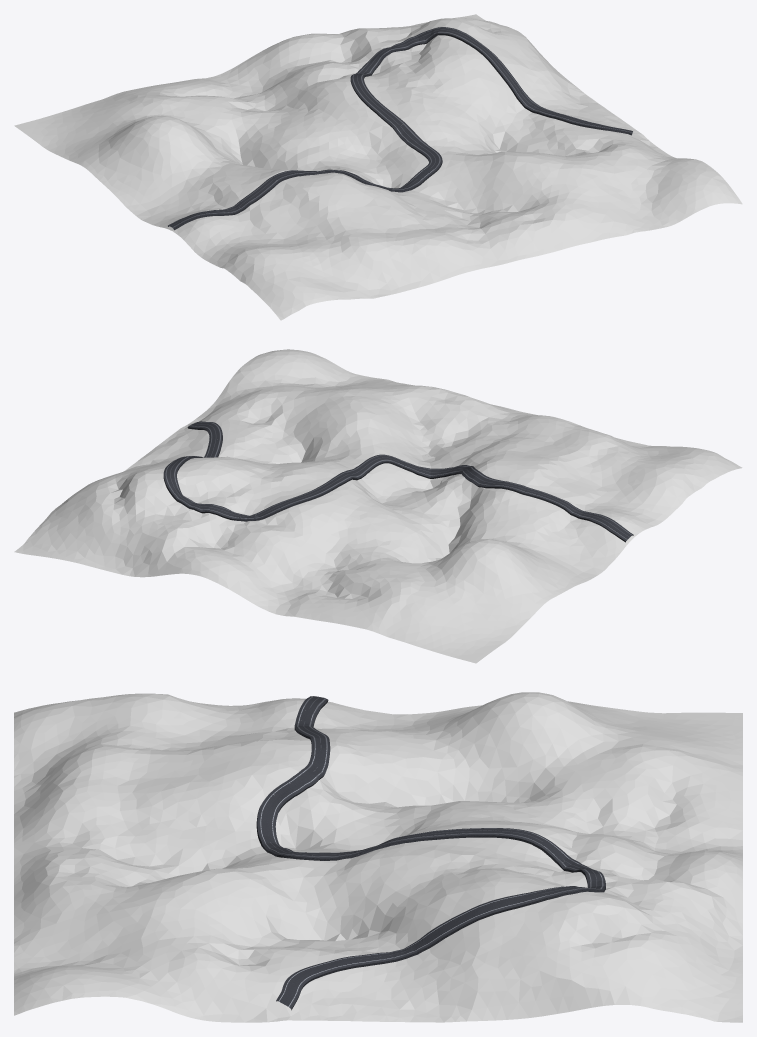
File: level0.glb
The picture shows the model from 3 angles, top to bottom: view 1: azimuth 30°, elevation 25°; view 2: azimuth 150°, elevation 25°; view 3: azimuth 270°, elevation 25°; orthographic projection. The views are drawn at different scales.
Parts seen in each view (by area): view 1: TILE1_BaseTerrain, TILE1_RoadModel; view 2: TILE1_BaseTerrain, TILE1_RoadModel; view 3: TILE1_BaseTerrain, TILE1_RoadModel.
Boxes of the visible parts, left/top/right/bottom form: TILE1_BaseTerrain: left=14, top=14, right=742, bottom=320; TILE1_RoadModel: left=168, top=27, right=632, bottom=230; TILE1_BaseTerrain: left=14, top=349, right=742, bottom=663; TILE1_RoadModel: left=163, top=421, right=633, bottom=542; TILE1_BaseTerrain: left=14, top=692, right=742, bottom=1022; TILE1_RoadModel: left=256, top=696, right=605, bottom=1010.
Bounding box in the file's own units: 200 × 24.24 × 200.
Materials: 1 (1 with a texture image).
